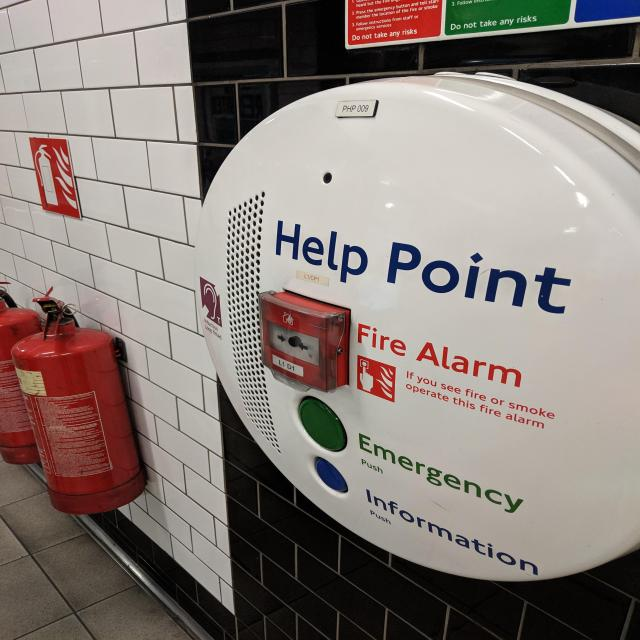fire_extinguisher: (9, 296, 154, 517), (0, 275, 70, 471)
